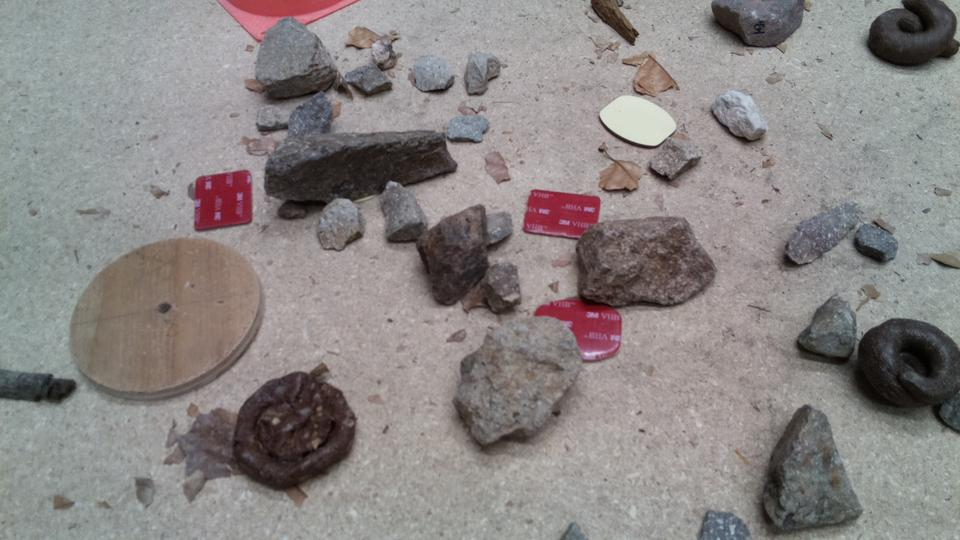poop: (230, 370, 359, 490), (856, 316, 959, 414), (867, 1, 958, 69)
